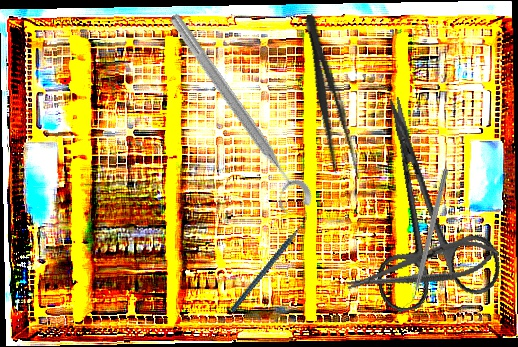Chopper: (206, 209, 332, 313), (401, 166, 449, 311)
Dressing Forceps: (295, 11, 364, 185)
Fixation Ring: (152, 8, 318, 222)
Iris Scissors: (338, 83, 506, 316)
Needle Holder: (342, 231, 503, 304)
